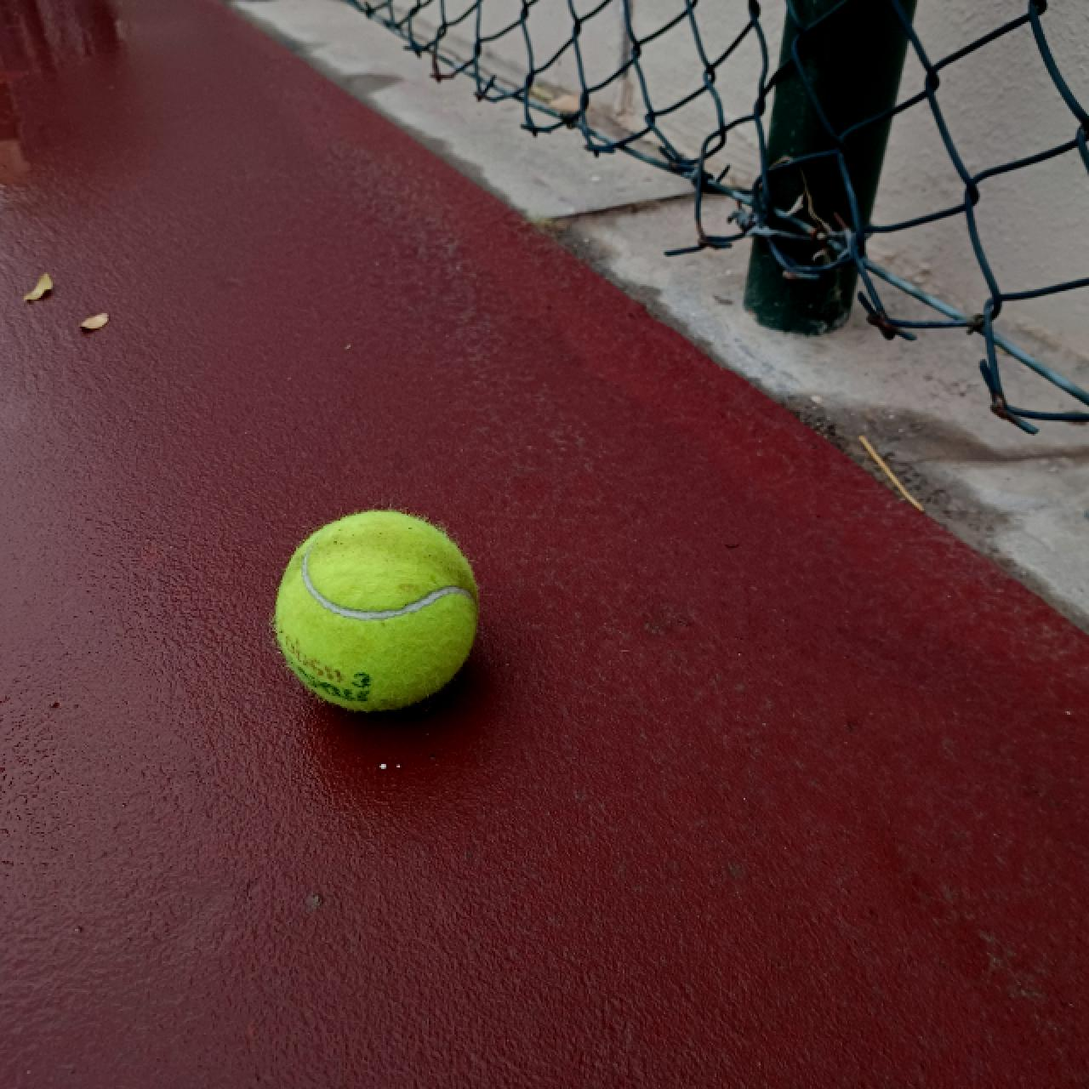tennis-ball: (272, 507, 484, 716)
